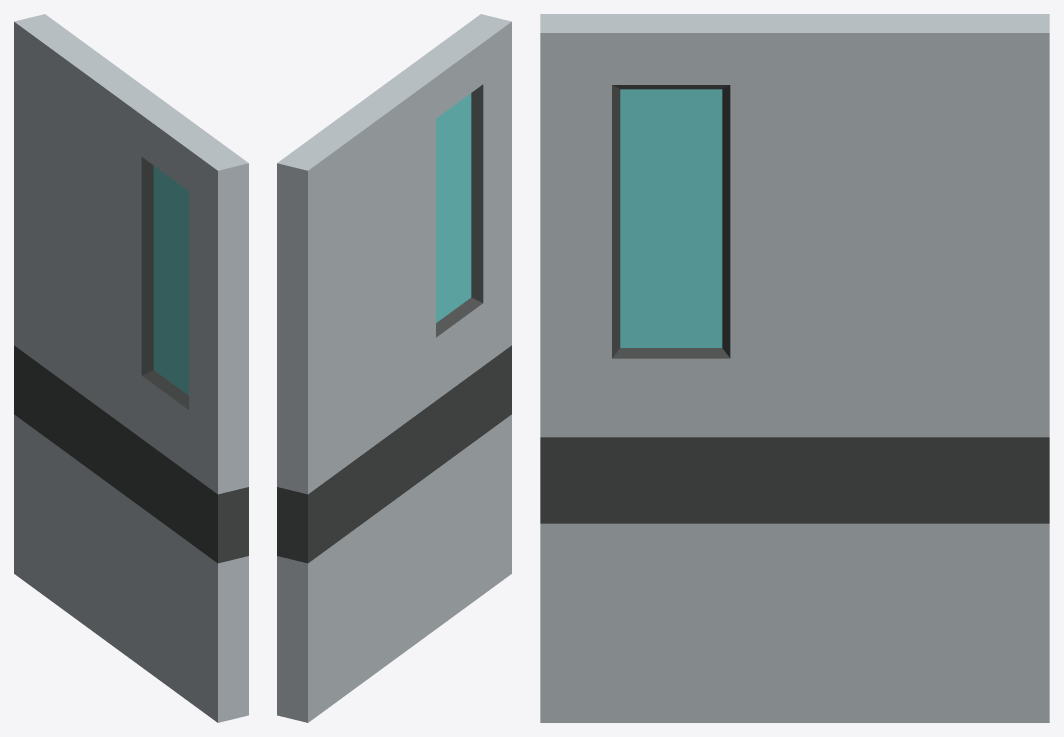
Rendered from Med_Door.fbx.
3 renders of one model, left to right at view 1: azimuth 30°, elevation 25°; view 2: azimuth 150°, elevation 25°; view 3: azimuth 270°, elevation 25°, orthographic. The views are drawn at different scales.
Parts seen in each view (by area): view 1: Cube.003; view 2: Cube.003; view 3: Cube.003.
Part boxes in pixels (<box>): Cube.003: <box>14,14,248,722</box>; Cube.003: <box>277,14,511,722</box>; Cube.003: <box>540,14,1049,722</box>.
Size of the model in its own units: 19.61 by 333 by 223.
